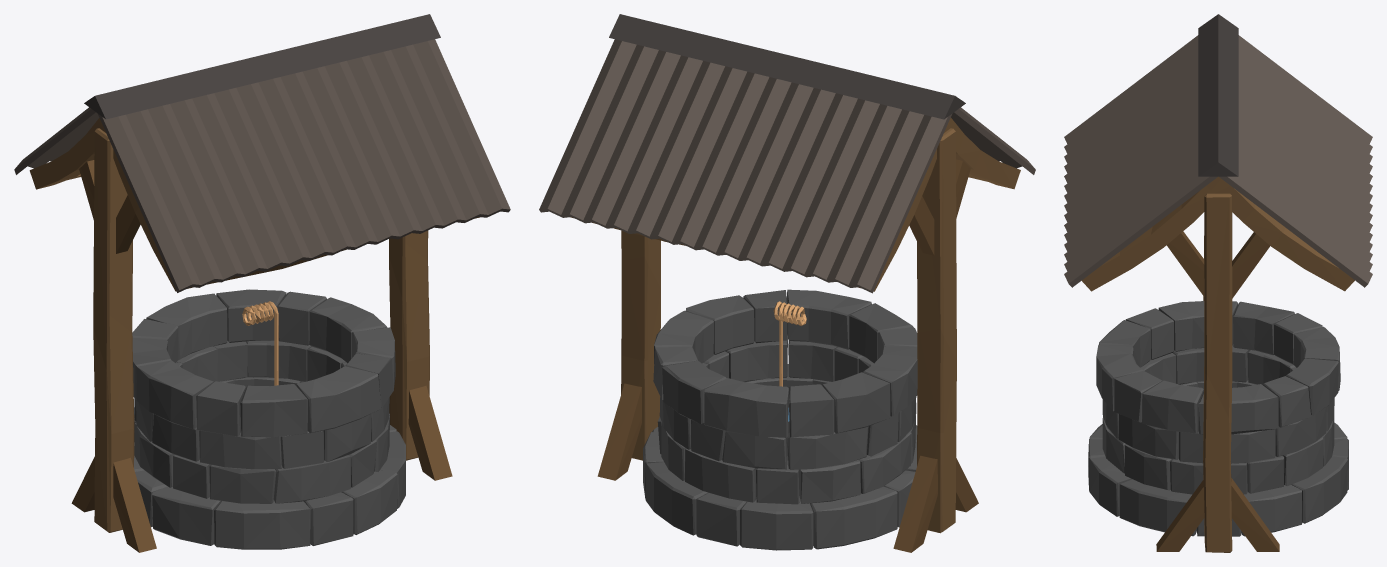
The model's file is Mesh_Props_Well.FBX.
The picture shows the model from 3 angles, left to right: view 1: azimuth 30°, elevation 25°; view 2: azimuth 150°, elevation 25°; view 3: azimuth 270°, elevation 25°; orthographic projection. The views are drawn at different scales.
Parts seen in each view (by area): view 1: Mesh_Props_Well_01; view 2: Mesh_Props_Well_01; view 3: Mesh_Props_Well_01.
Part boxes in pixels (x1,y1,x2,y2): Mesh_Props_Well_01: (14, 14, 510, 552); Mesh_Props_Well_01: (539, 14, 1035, 552); Mesh_Props_Well_01: (1064, 14, 1372, 552).
Size of the model in its own units: 74.92 by 92.88 by 65.88.
